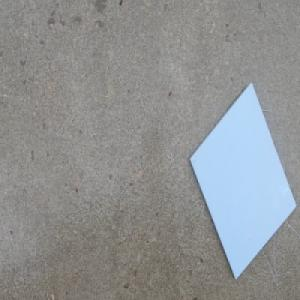PaintChip: (187, 80, 297, 282)
